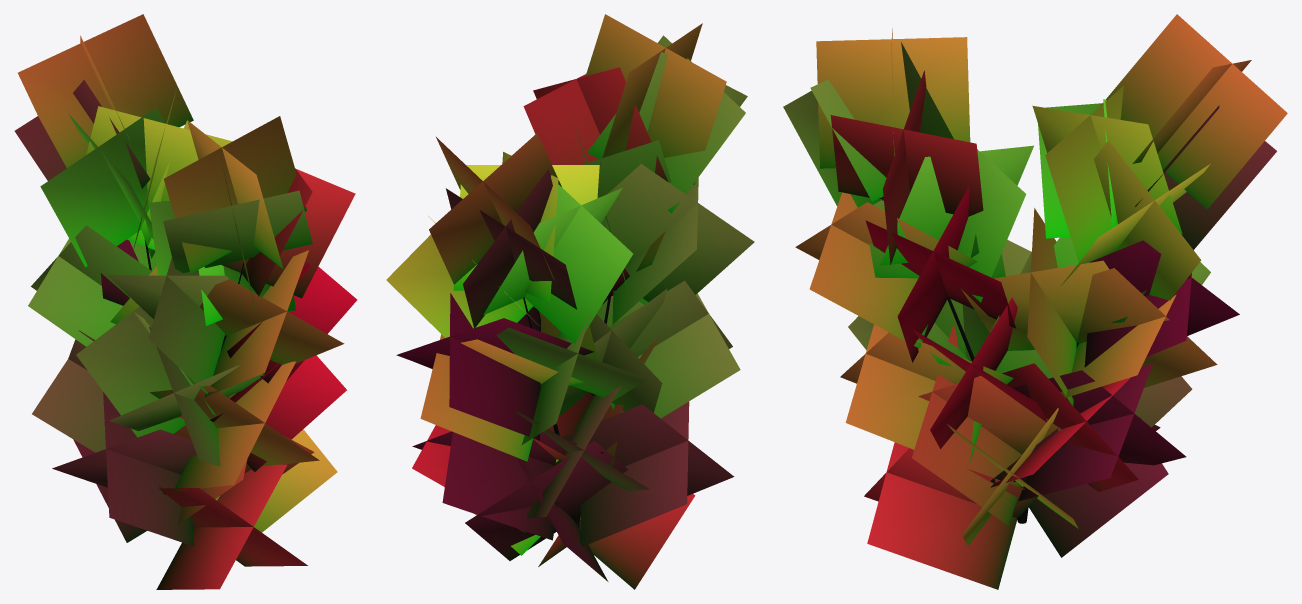
File: Tree_5.fbx
3 renders of one model, left to right at view 1: azimuth 30°, elevation 25°; view 2: azimuth 150°, elevation 25°; view 3: azimuth 270°, elevation 25°, orthographic. The views are drawn at different scales.
Visible parts, largest first — view 1: Tree_5; view 2: Tree_5; view 3: Tree_5.
Part boxes in pixels (x1,y1,x2,y2): Tree_5: [14, 14, 357, 589]; Tree_5: [386, 14, 754, 589]; Tree_5: [783, 14, 1287, 589].
Bounding box in the file's own units: 411 × 783 × 672.
